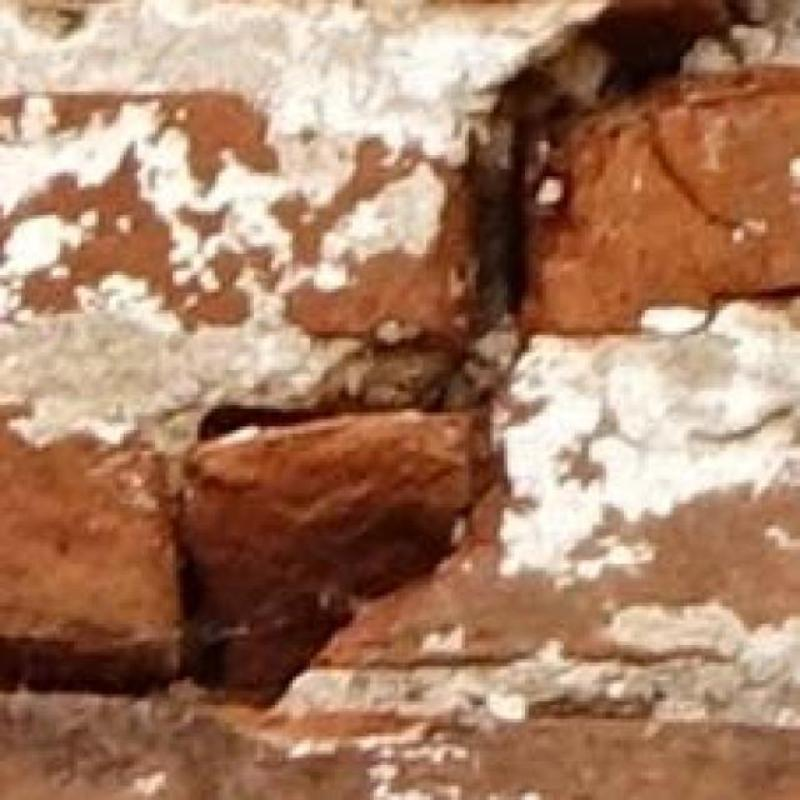pothole: (0, 471, 495, 705), (462, 0, 750, 335), (198, 363, 461, 440), (669, 282, 799, 340)
